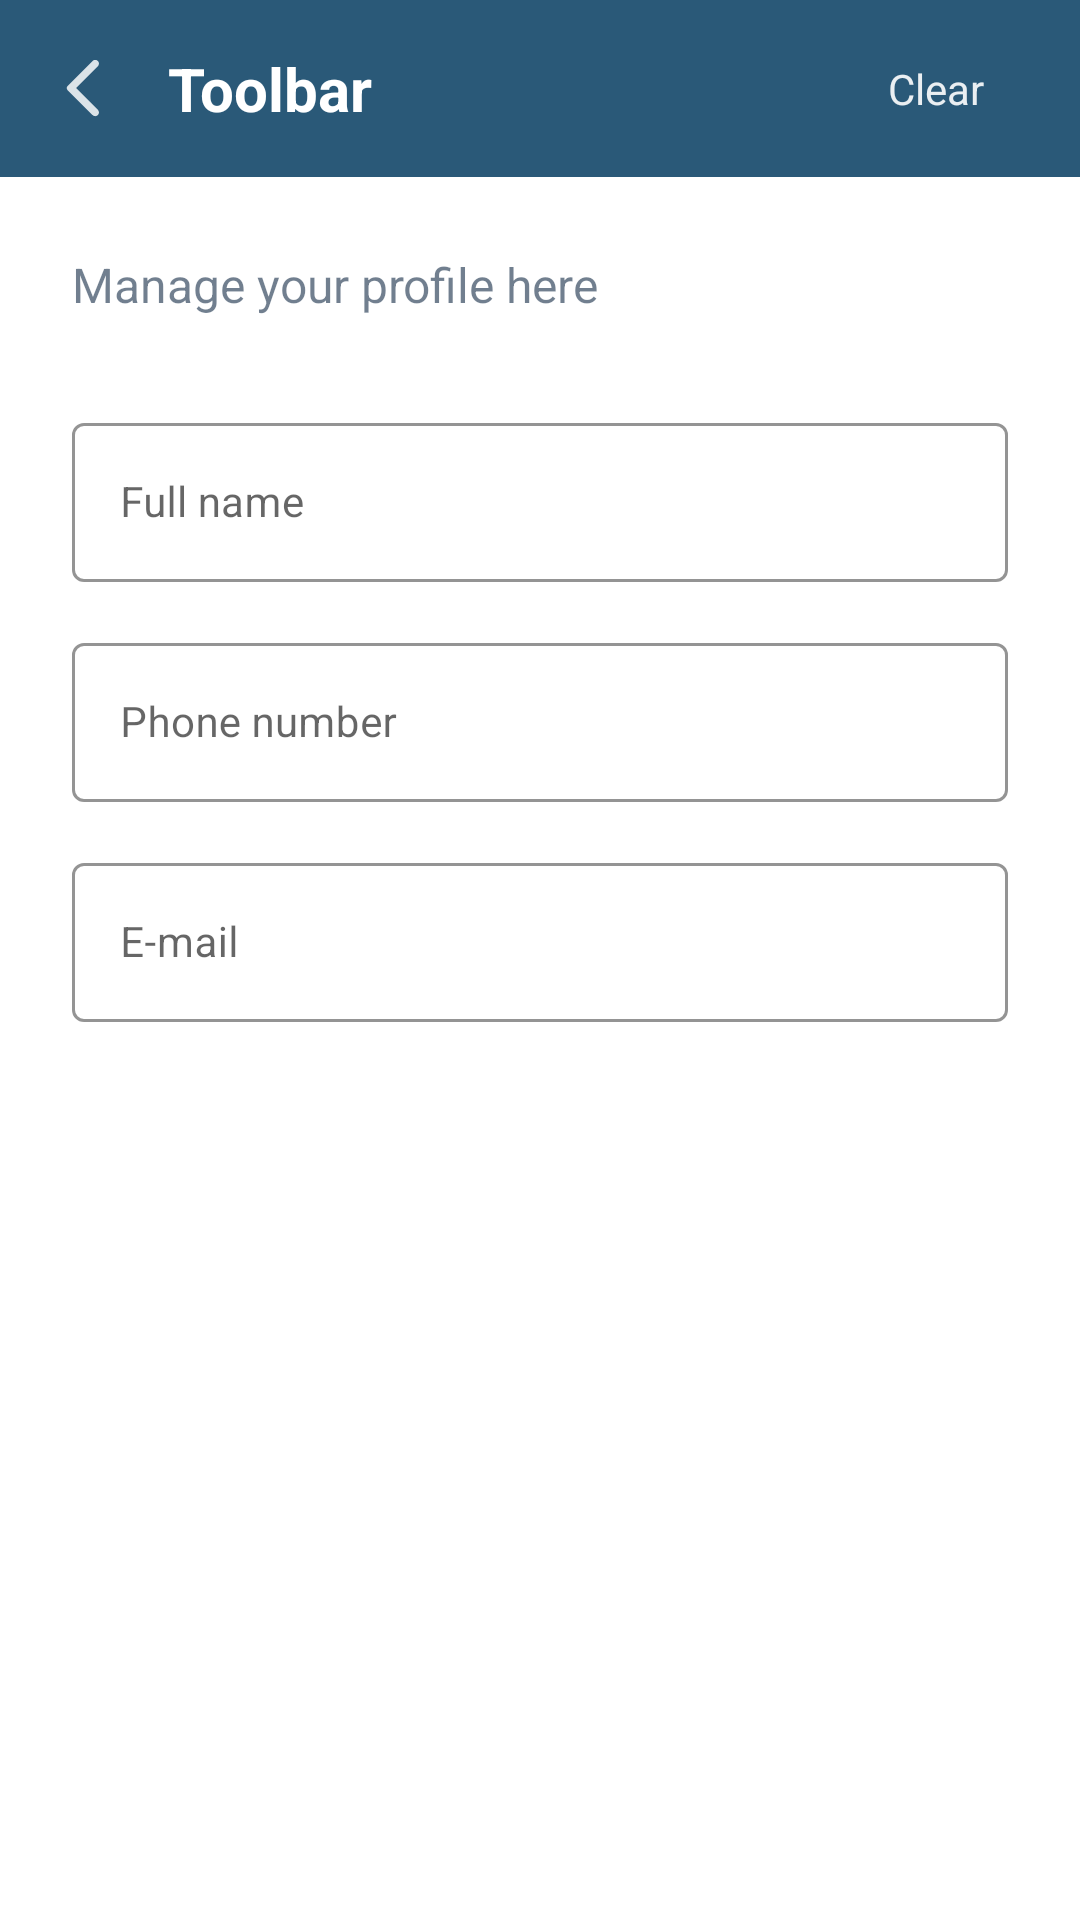

Icons on this 1080×1920 Android screen, each with the point to tap as (x=x, y=y):
arrow back: (x=82, y=88)
